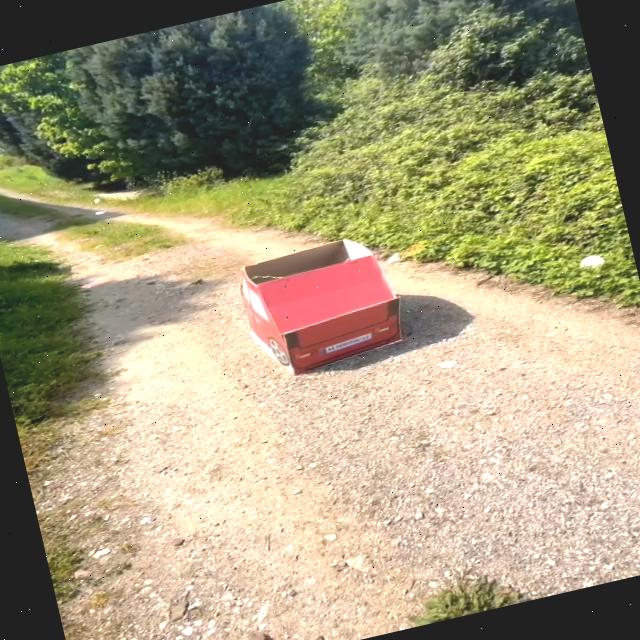red_car: (212, 219, 426, 397)
